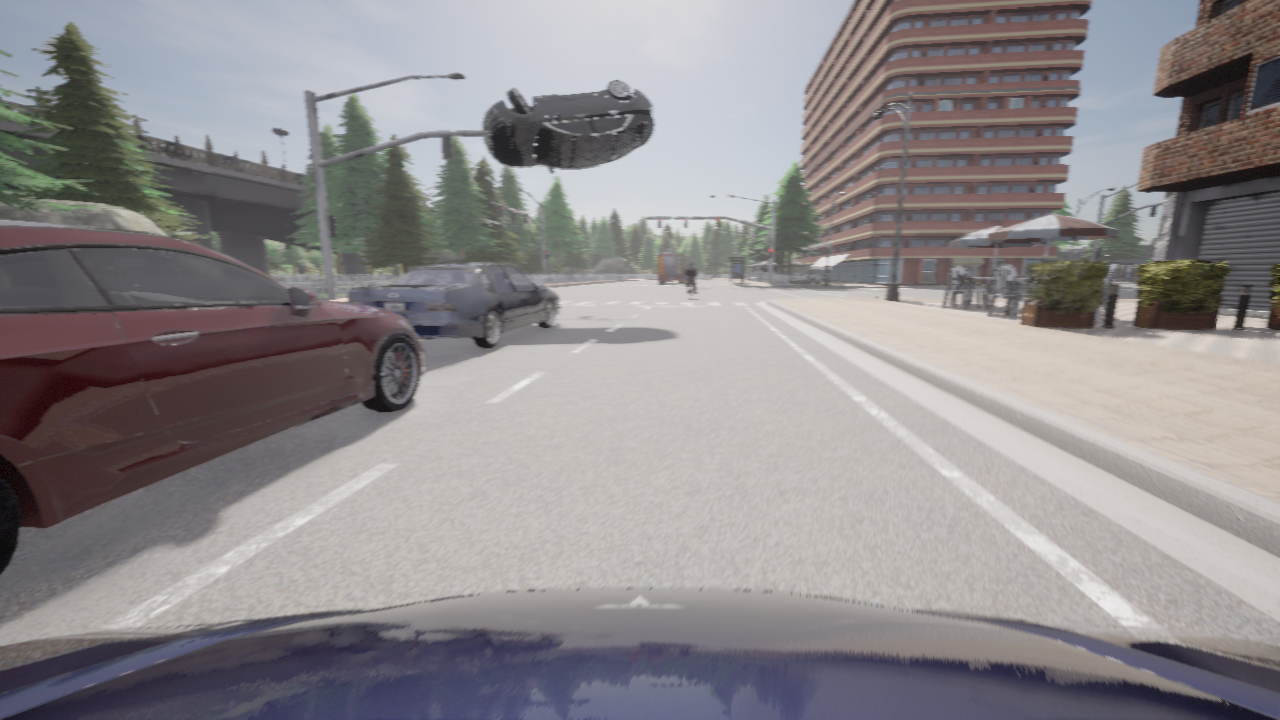cyclist: (0, 588, 1279, 719), (349, 262, 561, 348), (483, 79, 655, 172), (658, 249, 688, 283), (690, 282, 693, 298)
